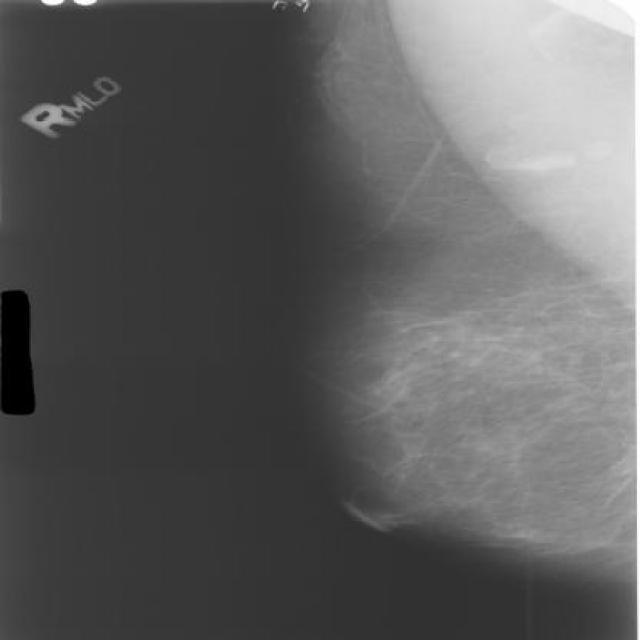tumor: (361, 312, 624, 534)
